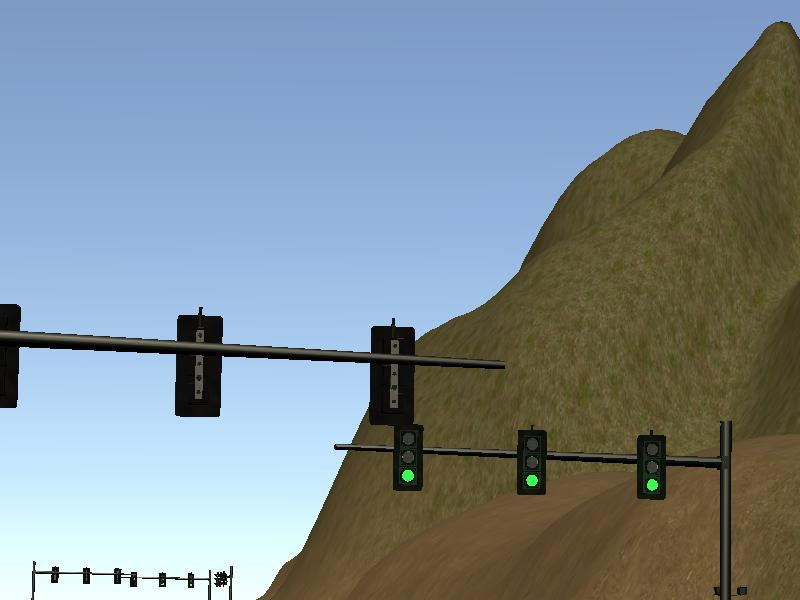Green: (517, 433, 547, 495), (638, 434, 666, 500), (395, 423, 422, 491), (158, 572, 166, 587), (188, 572, 192, 588)
Off: (130, 571, 136, 585)
